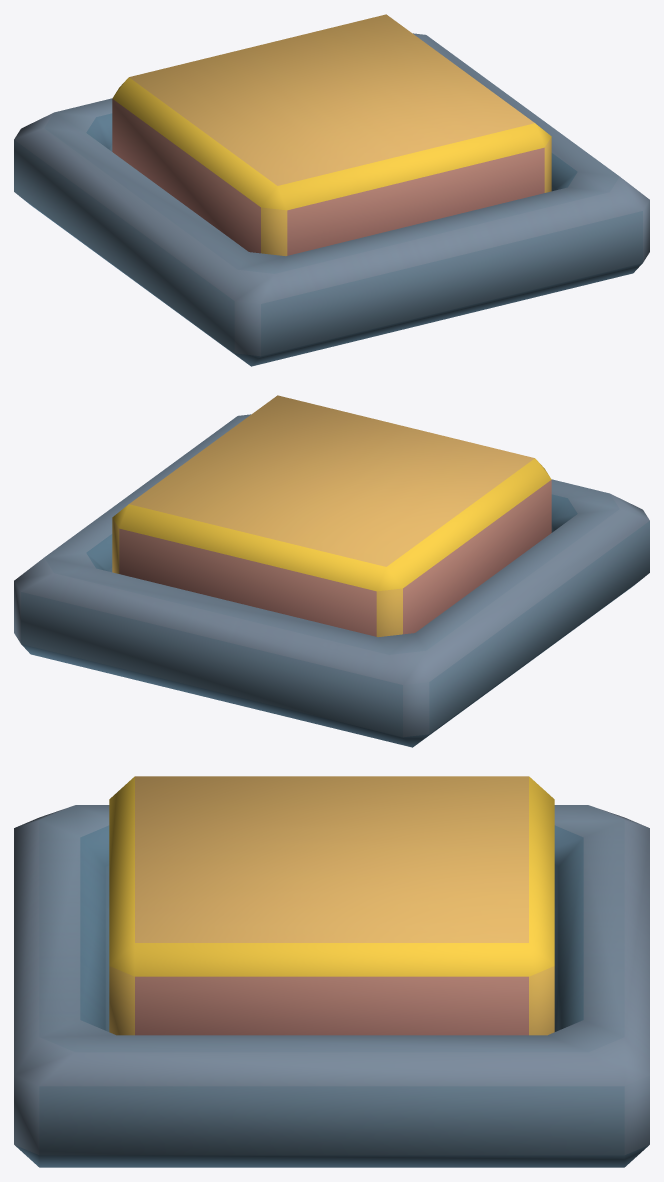
The model's file is switch_floor.fbx.
3 renders of one model, top to bottom at view 1: azimuth 30°, elevation 25°; view 2: azimuth 150°, elevation 25°; view 3: azimuth 270°, elevation 25°, orthographic. The views are drawn at different scales.
Visible parts, largest first — view 1: switch_floor, switch_floor_blue_plate; view 2: switch_floor, switch_floor_blue_plate; view 3: switch_floor, switch_floor_blue_plate.
Boxes of the visible parts, box(x1,y1,x2,y2) form: switch_floor: box(14, 33, 649, 366); switch_floor_blue_plate: box(112, 14, 551, 256); switch_floor: box(14, 414, 649, 747); switch_floor_blue_plate: box(112, 395, 551, 637); switch_floor: box(14, 805, 649, 1167); switch_floor_blue_plate: box(109, 776, 554, 1035).
Bounding box in the file's own units: 125 × 40 × 125.
Materials: 1 (1 with a texture image).
